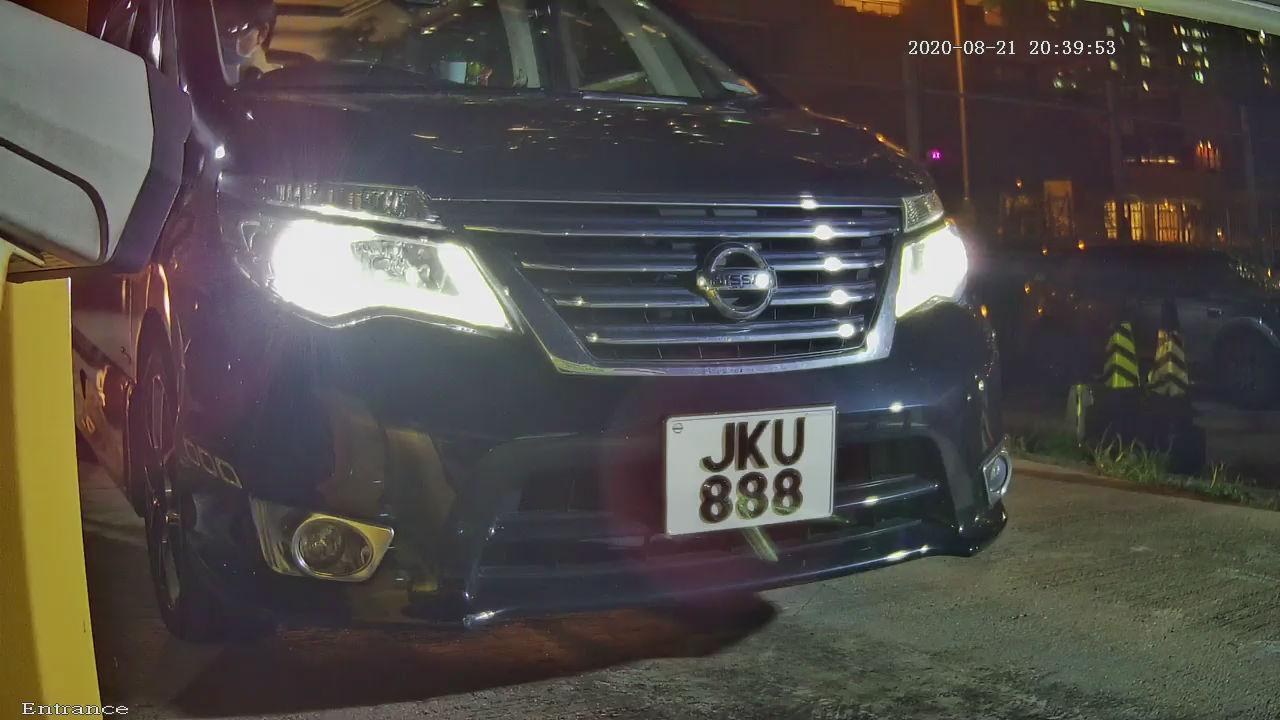Car: (41, 1, 1103, 720)
License Plate: (652, 393, 852, 550)
